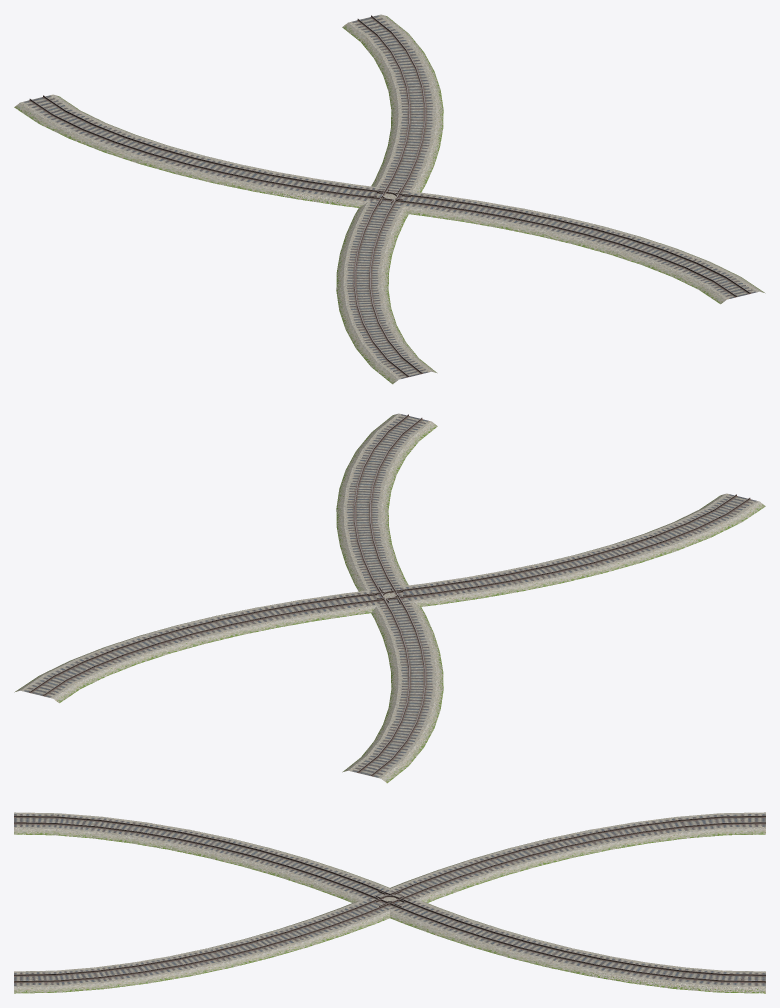
Rendered from Tr_FCrossing2.fbx.
3 renders of one model, top to bottom at view 1: azimuth 30°, elevation 25°; view 2: azimuth 150°, elevation 25°; view 3: azimuth 270°, elevation 25°, orthographic.
Visible parts, largest first — view 1: U3DMesh; view 2: U3DMesh; view 3: U3DMesh.
Part boxes in pixels (x1,y1,x2,y2): U3DMesh: (14,14,765,384); U3DMesh: (14,413,765,783); U3DMesh: (14,812,765,993).
Size of the model in its own units: 36.42 by 0.4498 by 64.
